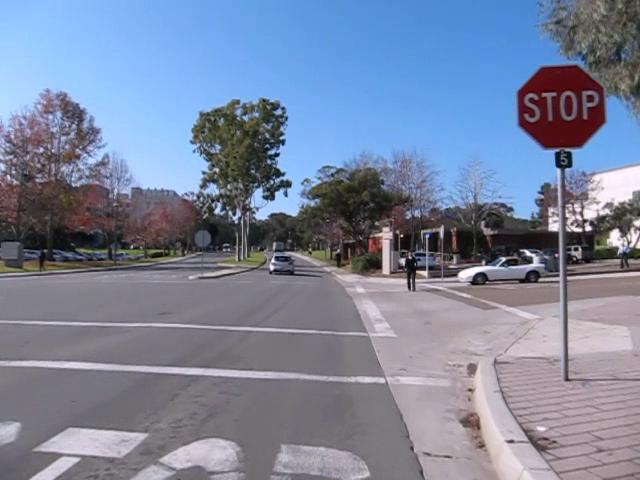stop: (515, 63, 606, 150)
